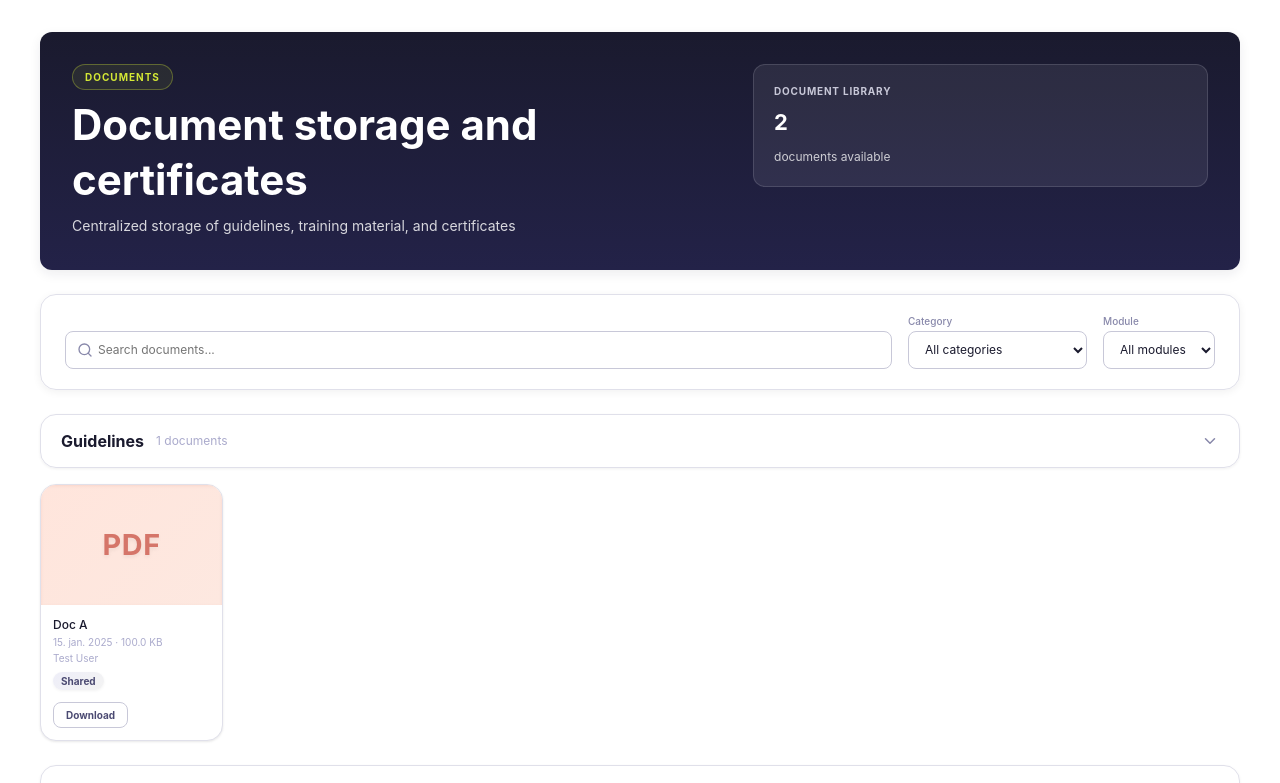
Test: DocumentsView › filtering › filters documents by category select
Select "Training material" in the dropdown with id "filter-cat" at (998,350), box [908, 331, 1087, 369]
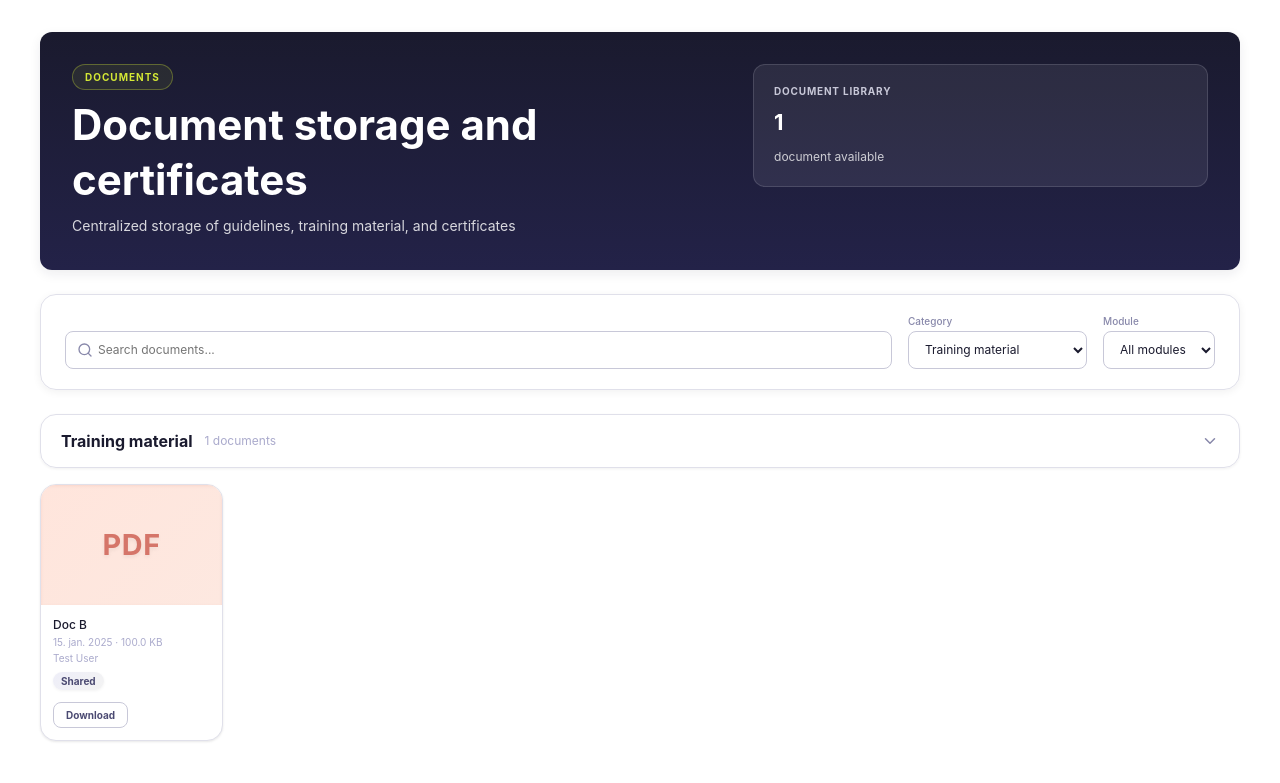
Expected: the text "Doc B" is shown, [53, 617, 87, 632]
Expected: the text "Doc A" is gone
